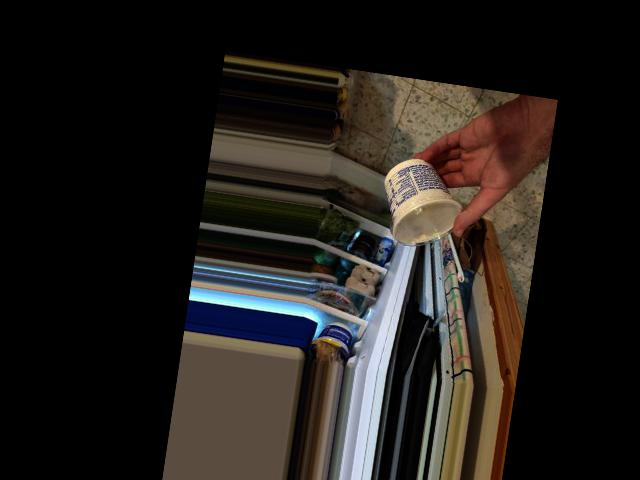cotage: (378, 162, 462, 254)
